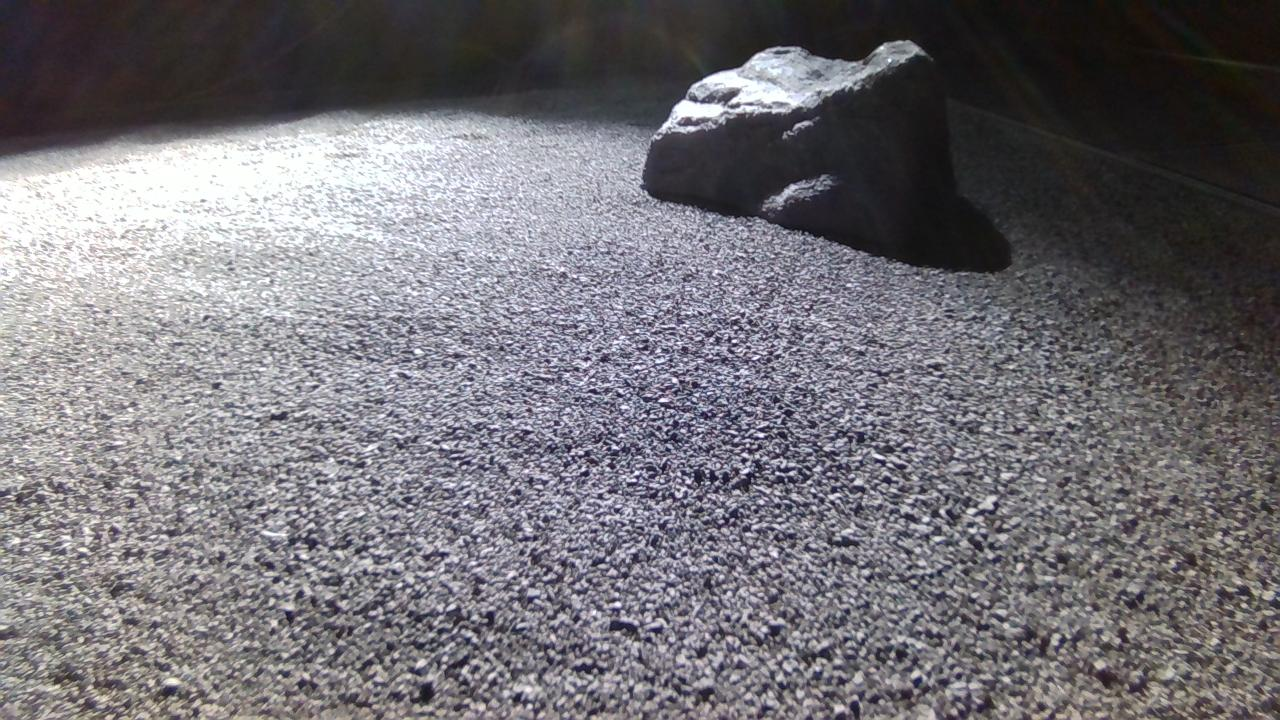rock: (645, 39, 958, 249)
